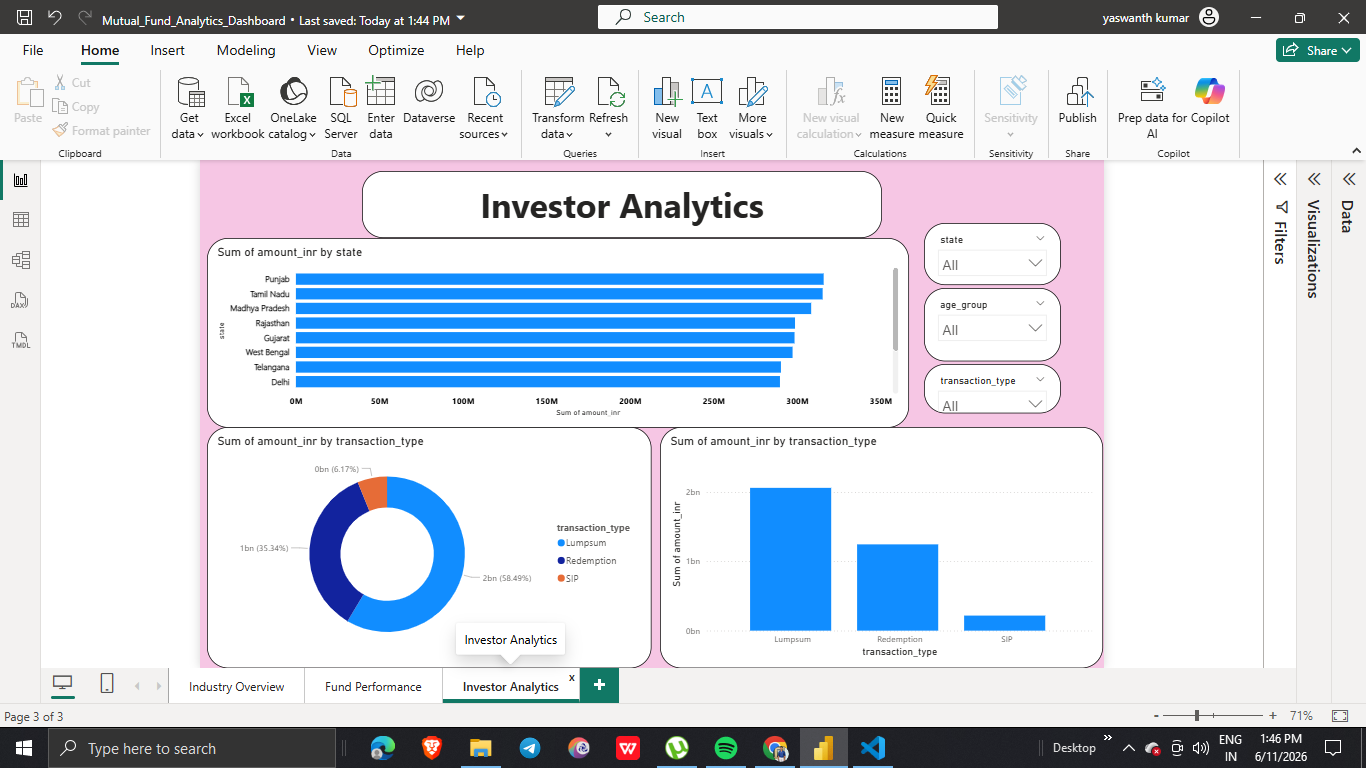

The dashboard page shown, as its layout file describes it:
{"tool":"powerbi","page":{"name":"Investor Analytics","canvas":[1280,720],"ordinal":2},"visuals":[{"type":"clusteredBarChart","fields":{"Category":["08_investor_transactions.state"],"Y":["Sum(08_investor_transactions.amount_inr)"]},"box":[10.4,110.4,995.1,268.5],"z":0},{"type":"donutChart","fields":{"Category":["08_investor_transactions.transaction_type"],"Y":["Sum(08_investor_transactions.amount_inr)"]},"box":[10.4,378.9,629.6,341.6],"z":1},{"type":"columnChart","fields":{"Category":["08_investor_transactions.transaction_type"],"Y":["Sum(08_investor_transactions.amount_inr)"]},"box":[651.9,378.9,628.1,341.6],"z":2},{"type":"slicer","fields":{"Values":["08_investor_transactions.state"]},"box":[1026.4,89.5,193.9,88],"z":3},{"type":"slicer","fields":{"Values":["08_investor_transactions.transaction_type"]},"box":[1026.4,289.4,193.9,70.1],"z":4},{"type":"slicer","fields":{"Values":["08_investor_transactions.age_group"]},"box":[1026.4,182,193.9,104.4],"z":5},{"type":"textbox","box":[229.7,14.9,737,95.5],"z":6}]}

Visuals, with their boxes on the page's 1280x720 design canvas (x1, y1, x2, y2). These are canvas units, not pixel positions in the 1366x768 screenshot, which may show the page scaled, cropped or inside an application window:
clusteredBarChart - 08_investor_transactions.state x Sum(08_investor_transactions.amount_inr): left=10, top=110, right=1006, bottom=379
donutChart - 08_investor_transactions.transaction_type x Sum(08_investor_transactions.amount_inr): left=10, top=379, right=640, bottom=720
columnChart - 08_investor_transactions.transaction_type x Sum(08_investor_transactions.amount_inr): left=652, top=379, right=1280, bottom=720
slicer - 08_investor_transactions.state: left=1026, top=90, right=1220, bottom=178
slicer - 08_investor_transactions.transaction_type: left=1026, top=289, right=1220, bottom=360
slicer - 08_investor_transactions.age_group: left=1026, top=182, right=1220, bottom=286
textbox: left=230, top=15, right=967, bottom=110
